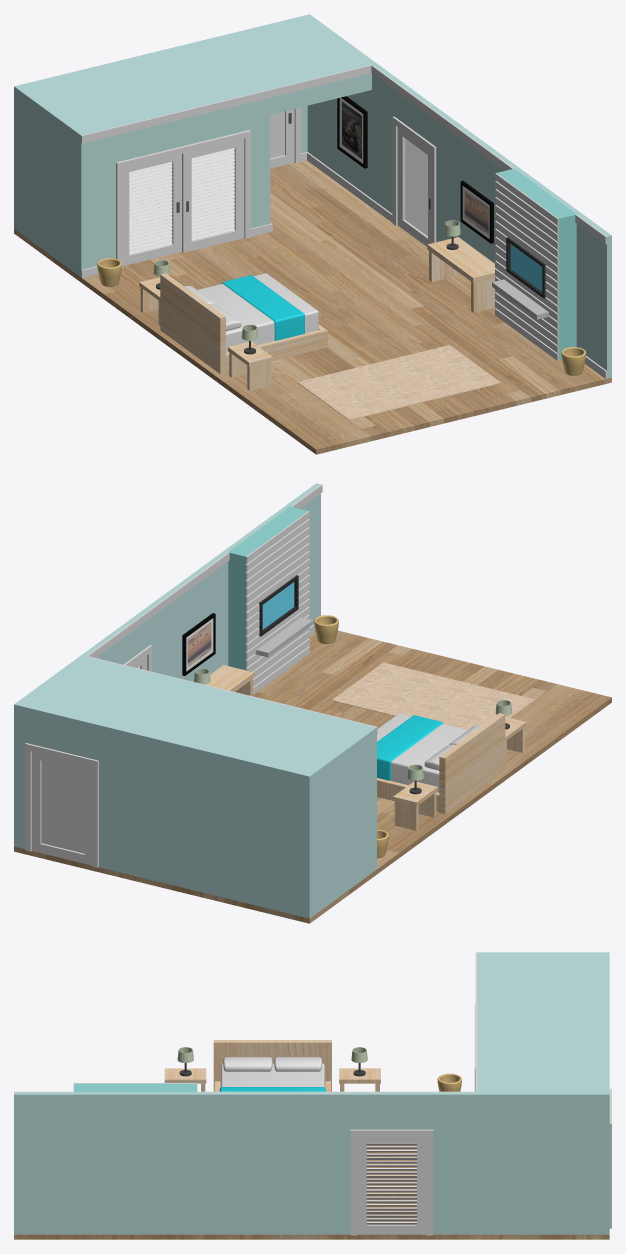
File: Hotel Room.fbx
3 renders of one model, top to bottom at view 1: azimuth 30°, elevation 25°; view 2: azimuth 150°, elevation 25°; view 3: azimuth 270°, elevation 25°, orthographic.
Parts seen in each view (by area): view 1: Walls, Floor, Bed, Rug, Shiplap, Trim Top, Closet Door Slats 02, Fish Tank Wall, Closet Door Slats 01, Desk, Closet Door 02, Closet Door Frame (+15 smaller); view 2: Walls, Floor, Bed, Shiplap, Rug, Front Door, Fish Tank Wall, Trim Top, Front Door Frame, Nightstand 02, Picture 02, Desk (+5 smaller); view 3: Walls, Bed, Floor, Bathroom Door Slats, Bathroom Door, Bathroom Door Frame, Fish Tank Wall, Trim Top, Nightstand 02, Nightstand 01, Plant Pot 02, Front Door Frame.
Part boxes in pixels (x1,y1,x2,y2): Walls: (14,14,611,378); Floor: (14,160,611,454); Bed: (160,273,327,373); Rug: (297,345,501,420); Shiplap: (495,173,558,360); Trim Top: (81,64,606,244); Closet Door Slats 02: (191,148,234,240); Fish Tank Wall: (497,168,577,360); Closet Door Slats 01: (129,162,172,254); Desk: (427,237,495,312); Closet Door 02: (182,139,244,252); Closet Door Frame: (116,130,251,268); Walls: (14,483,376,918); Floor: (14,630,611,923); Bed: (377,713,505,813); Shiplap: (246,511,309,694); Rug: (331,662,535,729); Front Door: (32,751,91,865); Fish Tank Wall: (228,506,307,672); Trim Top: (86,484,377,734); Front Door Frame: (25,743,98,867); Nightstand 02: (393,781,437,830); Picture 02: (182,613,215,675); Desk: (204,665,254,696); Walls: (14,952,609,1234); Bed: (213,1040,331,1091); Floor: (14,1145,609,1239); Bathroom Door Slats: (366,1143,416,1224); Bathroom Door: (357,1136,426,1234); Bathroom Door Frame: (350,1129,433,1235); Fish Tank Wall: (73,1083,197,1092); Trim Top: (14,952,477,1092); Nightstand 02: (339,1068,380,1091); Nightstand 01: (164,1068,206,1091); Plant Pot 02: (437,1073,461,1091); Front Door Frame: (609,1088,611,1228).
Size of the model in its own units: 614 by 290 by 1084.
